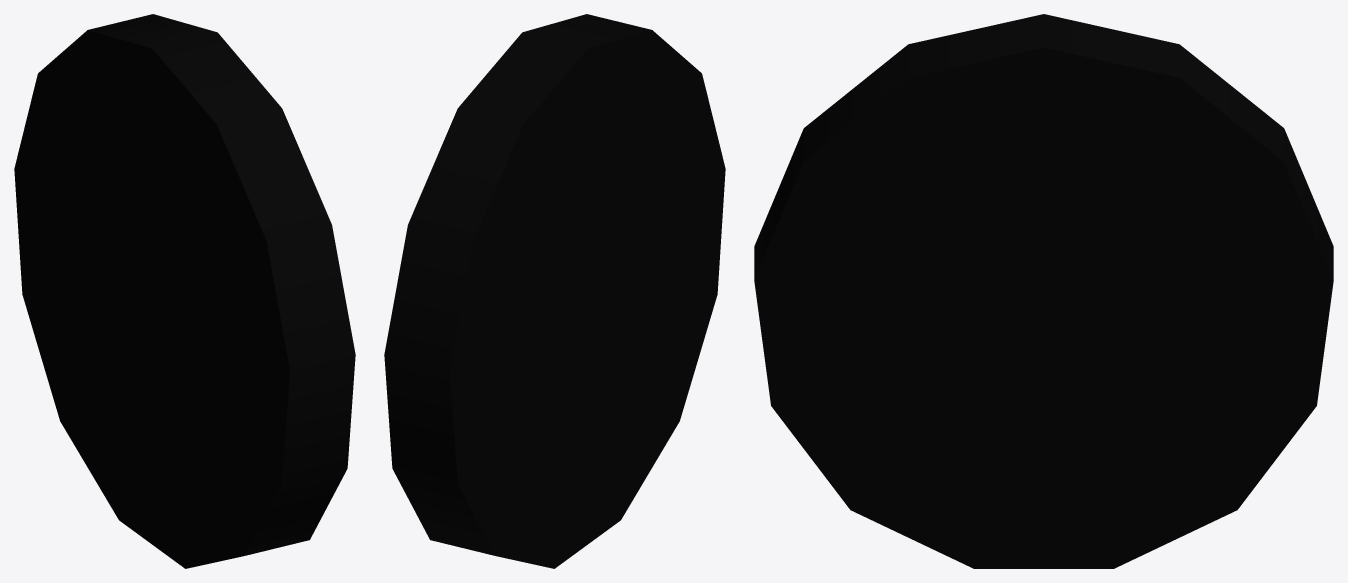
Rendered from poap-berlage.gltf.
3 views of the same model, side by side, from view 1: azimuth 30°, elevation 25°; view 2: azimuth 150°, elevation 25°; view 3: azimuth 270°, elevation 25° (orthographic). The views are drawn at different scales.
Visible parts, largest first — view 1: POAP.Berlage; view 2: POAP.Berlage; view 3: POAP.Berlage.
Boxes of the visible parts, bbox=[...] form: POAP.Berlage: bbox=[14, 14, 355, 568]; POAP.Berlage: bbox=[384, 14, 725, 568]; POAP.Berlage: bbox=[754, 14, 1333, 568].
Bounding box in the file's own units: 0.0307 × 0.2223 × 0.224.
Materials: 1 (1 with a texture image).
